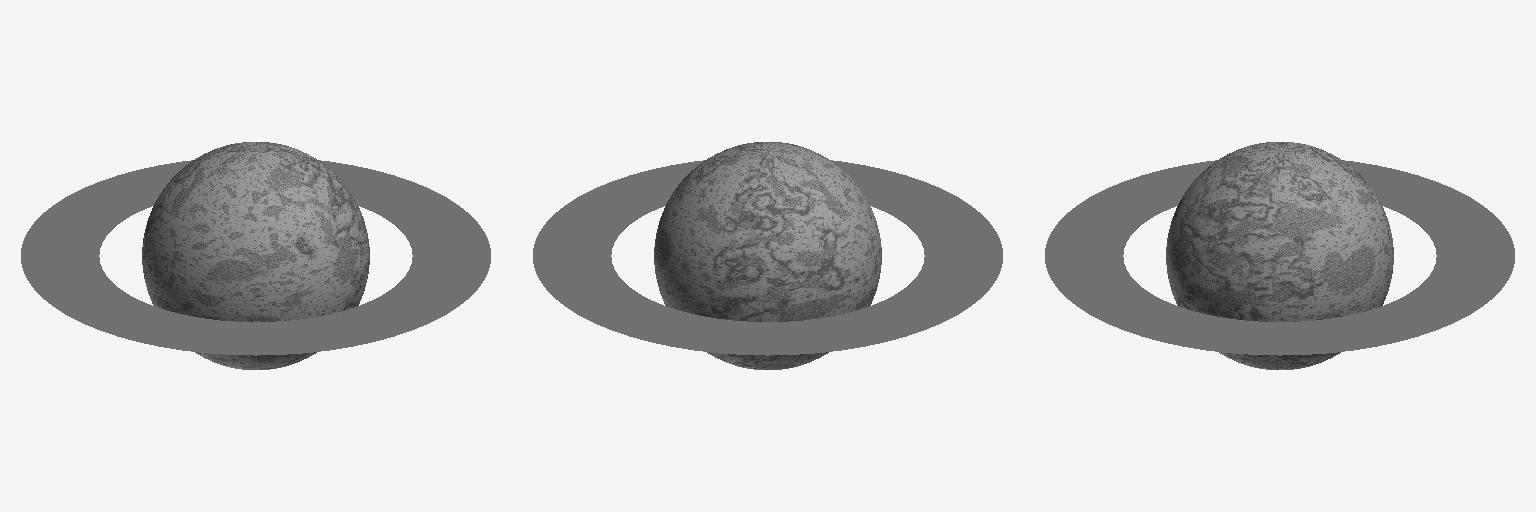
3 renders of one model, left to right at view 1: azimuth 30°, elevation 25°; view 2: azimuth 150°, elevation 25°; view 3: azimuth 270°, elevation 25°, orthographic.
Visible parts, largest first — view 1: Planet_Rings, Planet_Surface; view 2: Planet_Rings, Planet_Surface; view 3: Planet_Rings, Planet_Surface.
Part boxes in pixels (x1,y1,x2,y2): Planet_Rings: (21,160,490,355); Planet_Surface: (142,142,369,369); Planet_Rings: (533,160,1002,355); Planet_Surface: (654,142,881,369); Planet_Rings: (1045,160,1514,355); Planet_Surface: (1166,142,1393,369).
Size of the model in its own units: 161 by 78.57 by 161.
2 materials, 2 textured.